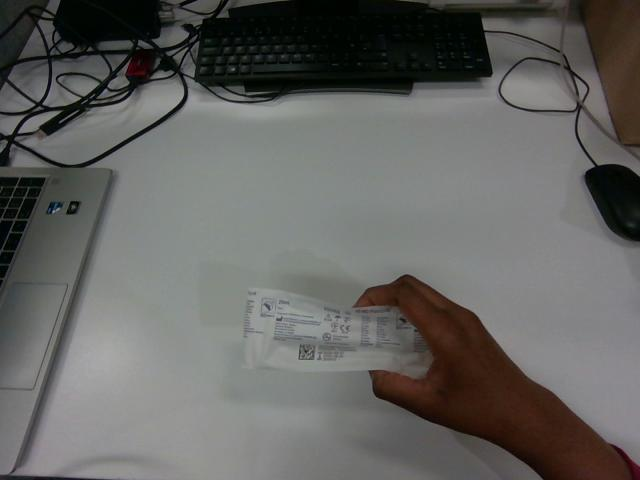syringe: (244, 289, 432, 377)
